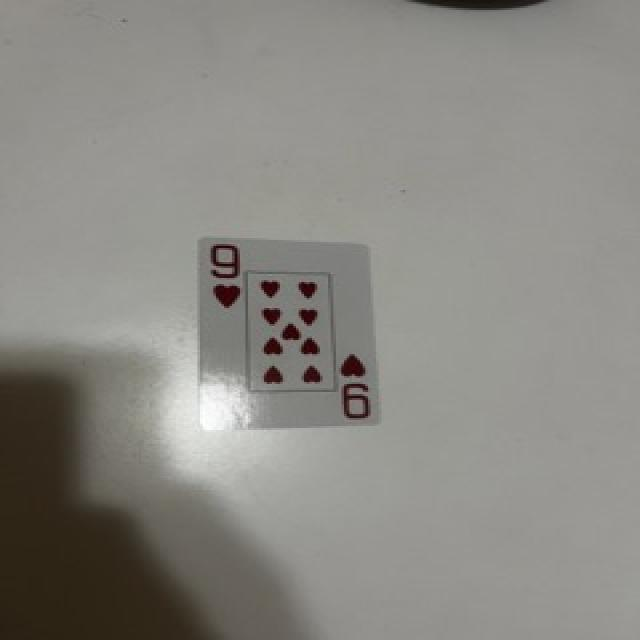9 of hearts: (200, 241, 378, 430)
